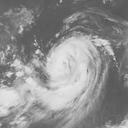cyclone: (46, 36, 109, 110)
